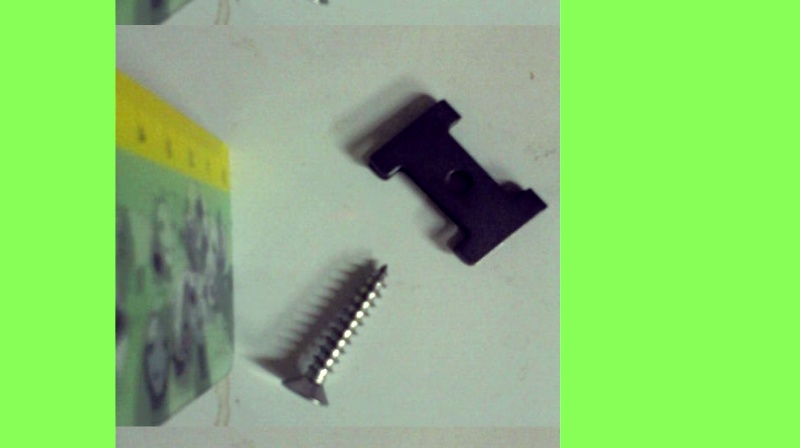O002: (363, 97, 549, 270)
S001: (274, 253, 391, 412)
